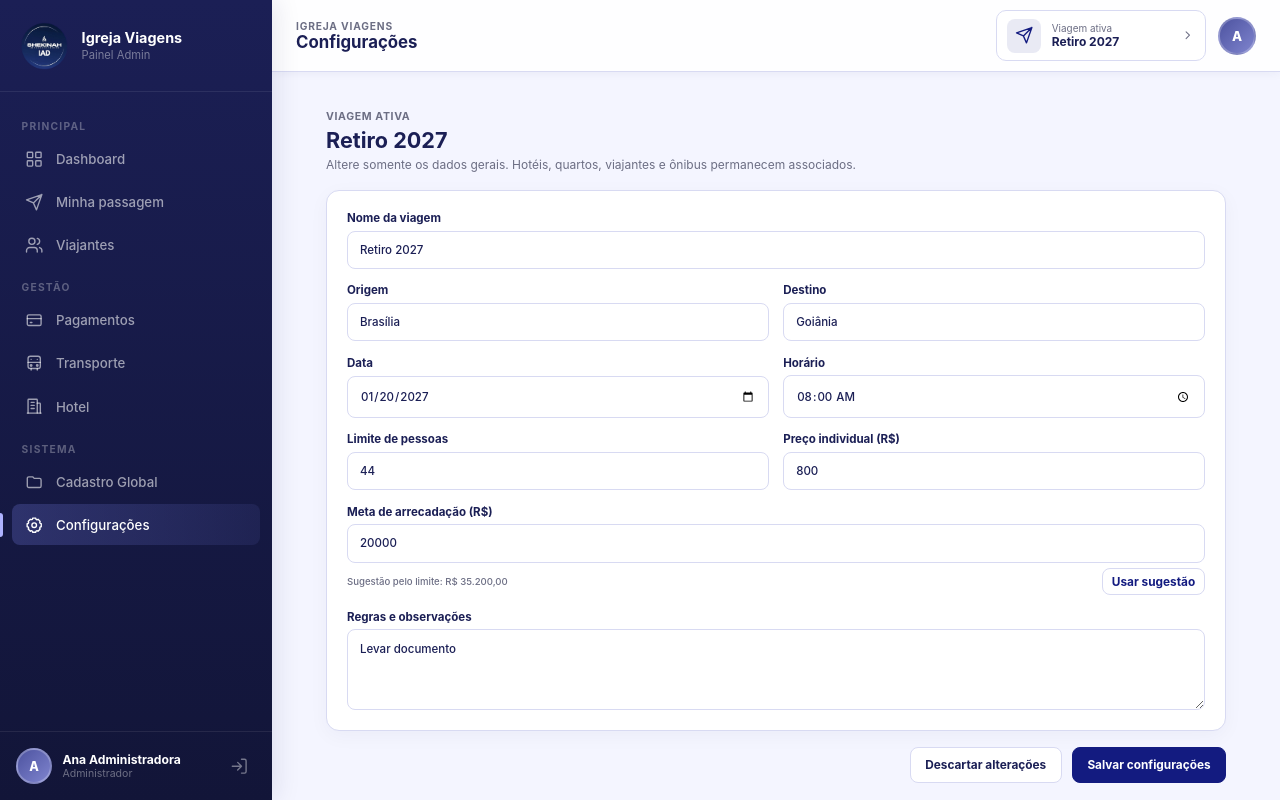
Test: gestão de viagens e configurações › não anuncia sucesso quando a persistência das Configurações falha
Click the button "Salvar configurações": (1149, 765) [1072,747,1226,783]
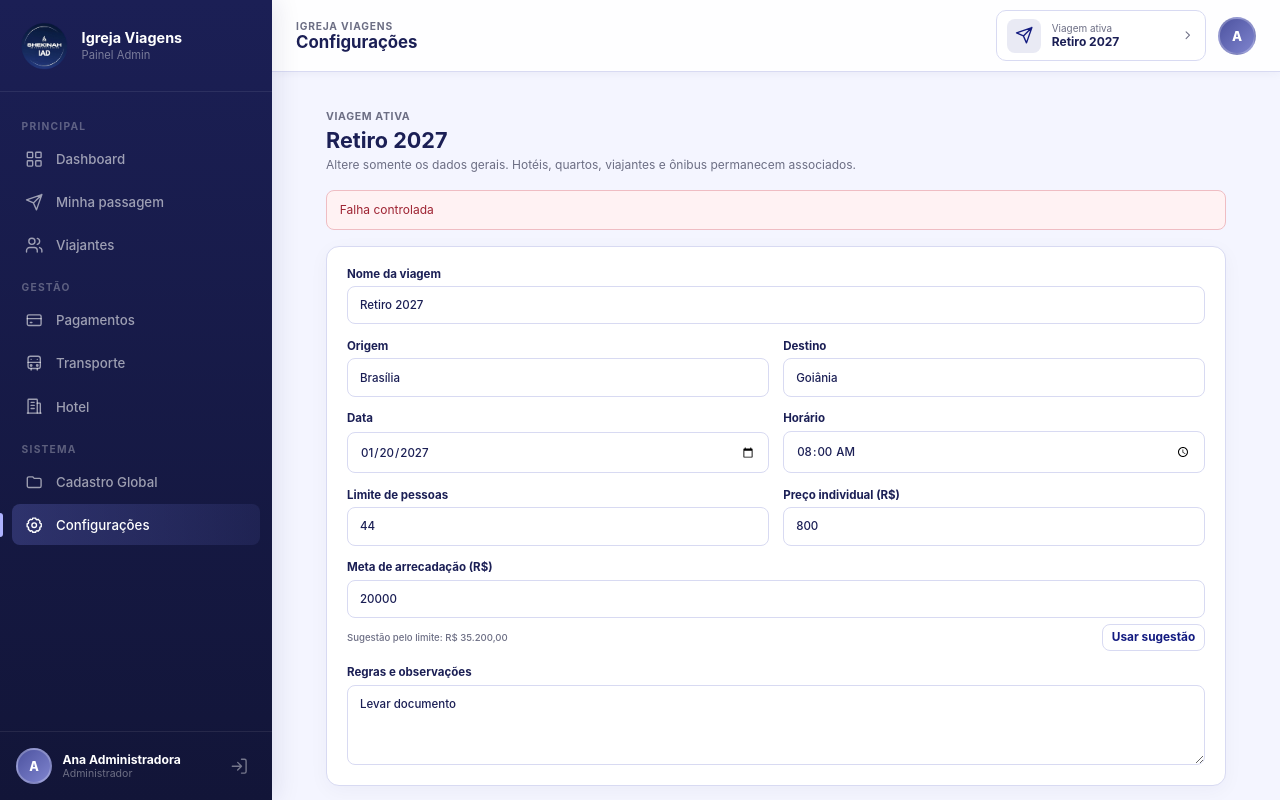
Check: the message reads "Falha controlada", box [340,202,434,217]
